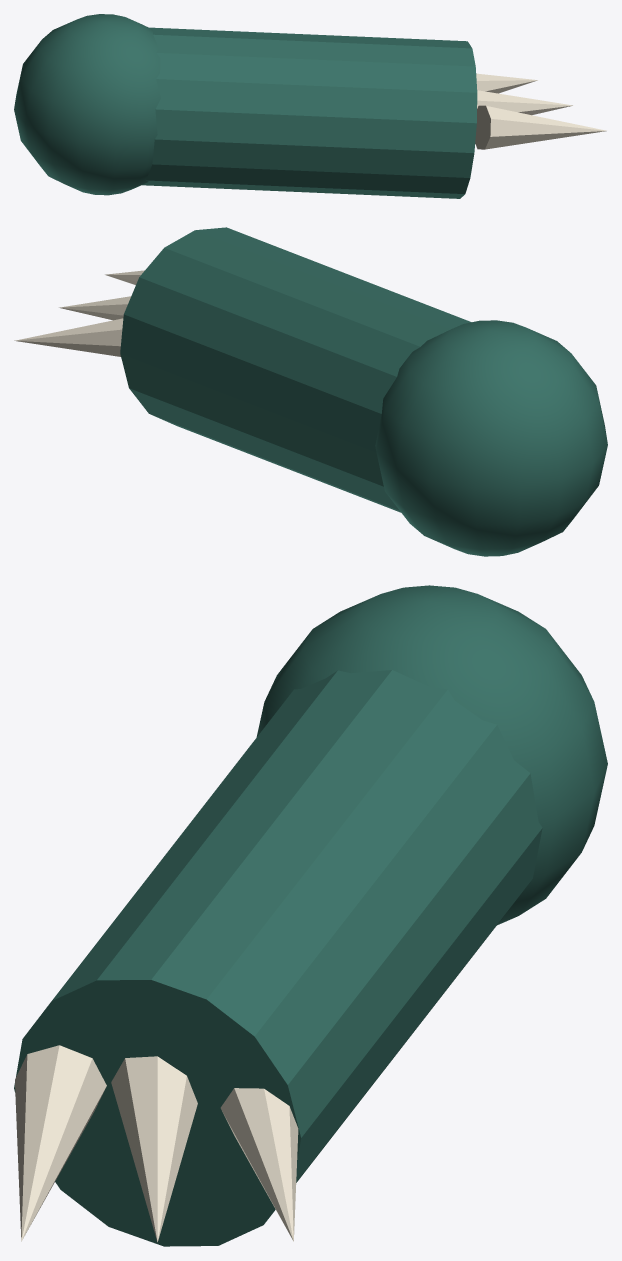
File: SM_Keeper_Sobek_Leg1m1.fbx
The picture shows the model from 3 angles, top to bottom: view 1: azimuth 30°, elevation 25°; view 2: azimuth 150°, elevation 25°; view 3: azimuth 270°, elevation 25°; orthographic projection. The views are drawn at different scales.
Parts seen in each view (by area): view 1: SM_Keeper_Sobek_Leg1m1; view 2: SM_Keeper_Sobek_Leg1m1; view 3: SM_Keeper_Sobek_Leg1m1.
Boxes of the visible parts, x1,y1,x2,y2 form: SM_Keeper_Sobek_Leg1m1: [14, 14, 606, 198]; SM_Keeper_Sobek_Leg1m1: [14, 227, 607, 556]; SM_Keeper_Sobek_Leg1m1: [14, 585, 607, 1246].
Bounding box in the file's own units: 6.09 × 2.3 × 3.33.
